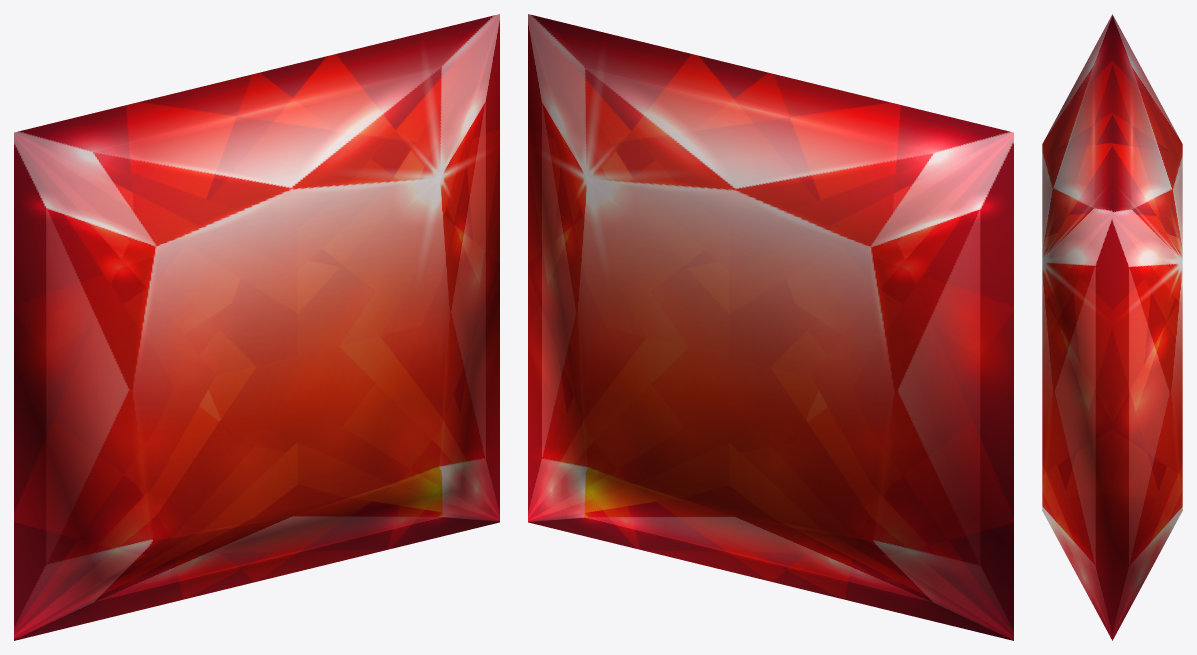
File: Gem-Princess.fbx
The picture shows the model from 3 angles, left to right: view 1: azimuth 30°, elevation 25°; view 2: azimuth 150°, elevation 25°; view 3: azimuth 270°, elevation 25°; orthographic projection. The views are drawn at different scales.
Parts seen in each view (by area): view 1: Gem-Princess; view 2: Gem-Princess; view 3: Gem-Princess.
Boxes of the visible parts, x1,y1,x2,y2 form: Gem-Princess: (14,14,499,640); Gem-Princess: (528,14,1013,640); Gem-Princess: (1042,14,1182,640).
Size of the model in its own units: 1.92 by 1.92 by 0.5717.
